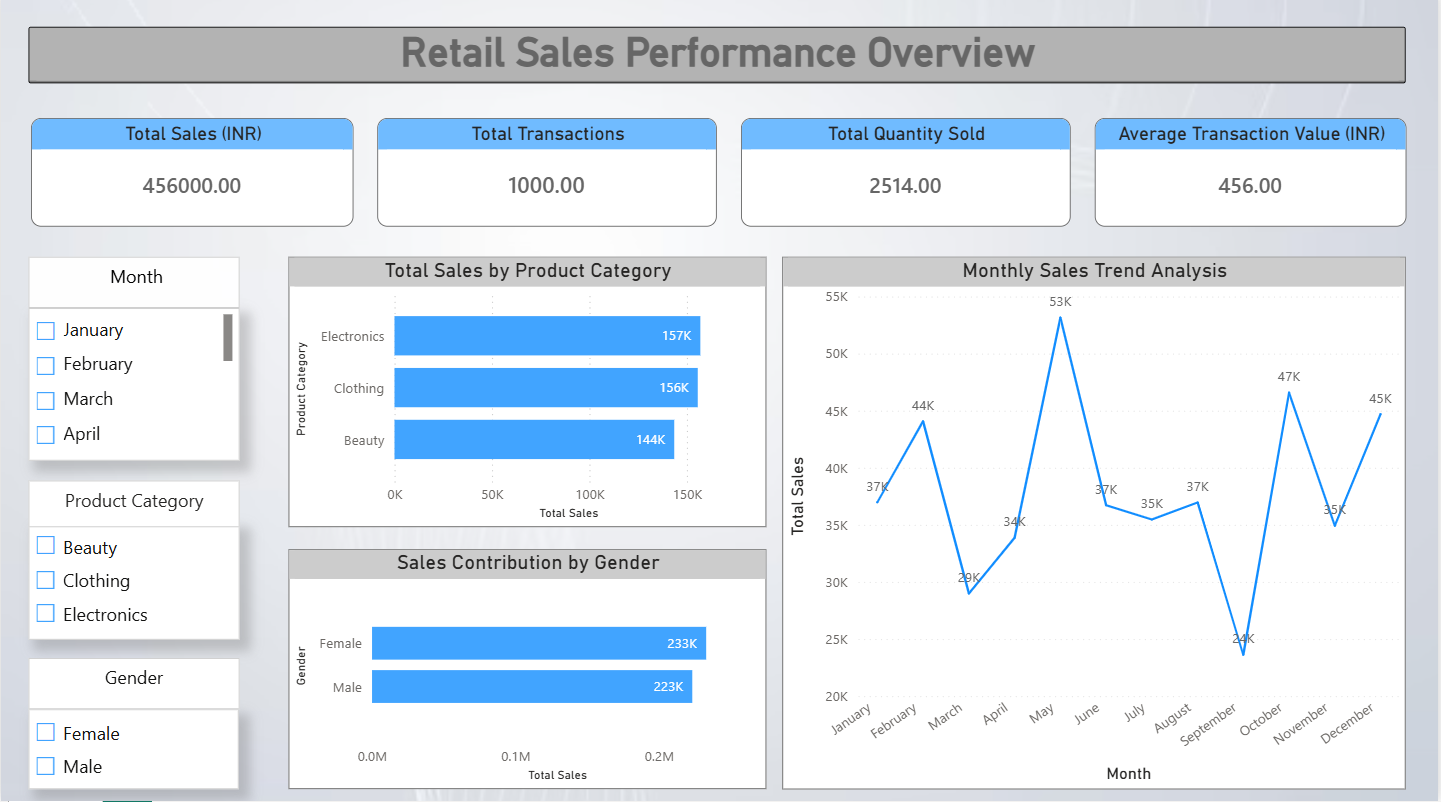

This screenshot's page, from the dashboard's own definition file:
{"tool":"powerbi","page":{"name":"Page 1","canvas":[1280,720],"ordinal":0},"visuals":[{"type":"cardVisual","title":"Total Sales (INR)","fields":{"Data":["Cleaned_Data.Total Sales"]},"box":[26.2,110.9,287.3,96.6],"z":0},{"type":"cardVisual","title":"Total Quantity Sold","fields":{"Data":["Cleaned_Data.Total Quantity"]},"box":[659.2,110.9,293.2,96.6],"z":1000},{"type":"cardVisual","title":"Average Transaction Value (INR)","fields":{"Data":["Cleaned_Data.Avg Transaction Value"]},"box":[973.9,110.9,277.7,96.6],"z":2000},{"type":"clusteredBarChart","fields":{"Category":["Cleaned_Data.Product Category"],"Y":["Cleaned_Data.Total Sales"]},"box":[256.3,234.8,425.6,240.8],"z":3000},{"type":"lineChart","title":"Monthly Sales Trend Analysis","fields":{"Category":["Cleaned_Data.Date.Variation.Date Hierarchy.Month"],"Y":["Cleaned_Data.Total Sales"]},"box":[696.1,234.8,555.5,474.4],"z":4000},{"type":"clusteredBarChart","title":"Sales Contribution by Gender","fields":{"Category":["Cleaned_Data.Gender"],"Y":["Cleaned_Data.Total Sales"]},"box":[256.3,495.9,425.6,213.4],"z":5000},{"type":"listSlicer","fields":{"Values":["Cleaned_Data.Product Category"]},"box":[25,472,188.3,103.7],"z":6000},{"type":"listSlicer","title":"Customer Gender","fields":{"Values":["Cleaned_Data.Gender"]},"box":[25,637.7,187.1,71.5],"z":7000},{"type":"listSlicer","title":"Select Month","fields":{"Values":["Cleaned_Data.Date.Variation.Date Hierarchy.Month"]},"box":[25,280.1,188.3,135.9],"z":8000},{"type":"textbox","title":"Retail Sales Performance Overview","box":[25,29.8,1226.6,50.1],"z":9000},{"type":"cardVisual","title":"Total Transactions","fields":{"Data":["Cleaned_Data.Total Transactions"]},"box":[335,110.9,302.8,96.6],"z":11000},{"type":"textbox","box":[25,234.8,188.3,45.3],"z":12000},{"type":"textbox","box":[25,433.9,188.3,41.7],"z":13000},{"type":"textbox","box":[25,592.4,188.3,45.3],"z":14000}]}

Visuals, with their boxes in screenshot pixels (x1, y1, x2, y2), scaled from the page's 1280x720 canvas onto the 1441x802 screenshot:
"Total Sales (INR)" cardVisual: 29/124/353/231
"Total Quantity Sold" cardVisual: 742/124/1072/231
"Average Transaction Value (INR)" cardVisual: 1096/124/1409/231
clusteredBarChart - Cleaned_Data.Product Category x Cleaned_Data.Total Sales: 289/262/768/530
"Monthly Sales Trend Analysis" lineChart: 784/262/1409/790
"Sales Contribution by Gender" clusteredBarChart: 289/552/768/790
listSlicer - Cleaned_Data.Product Category: 28/526/240/641
"Customer Gender" listSlicer: 28/710/239/790
"Select Month" listSlicer: 28/312/240/463
"Retail Sales Performance Overview" textbox: 28/33/1409/89
"Total Transactions" cardVisual: 377/124/718/231
textbox: 28/262/240/312
textbox: 28/483/240/530
textbox: 28/660/240/710
